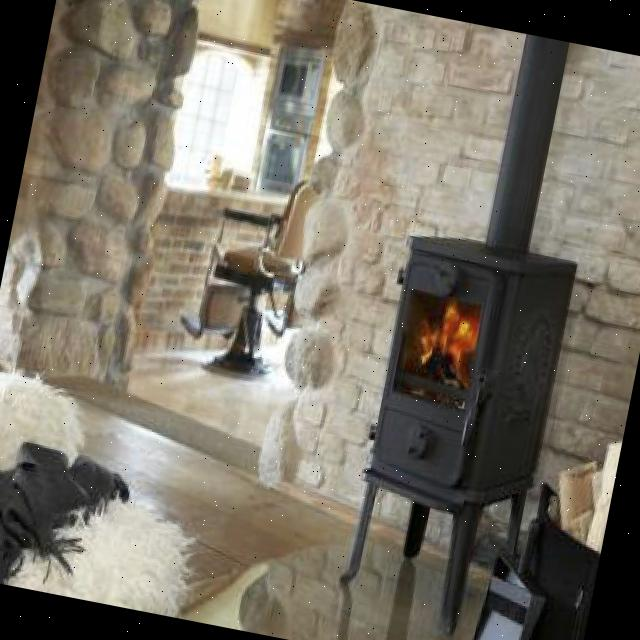fire: (410, 296, 476, 388)
